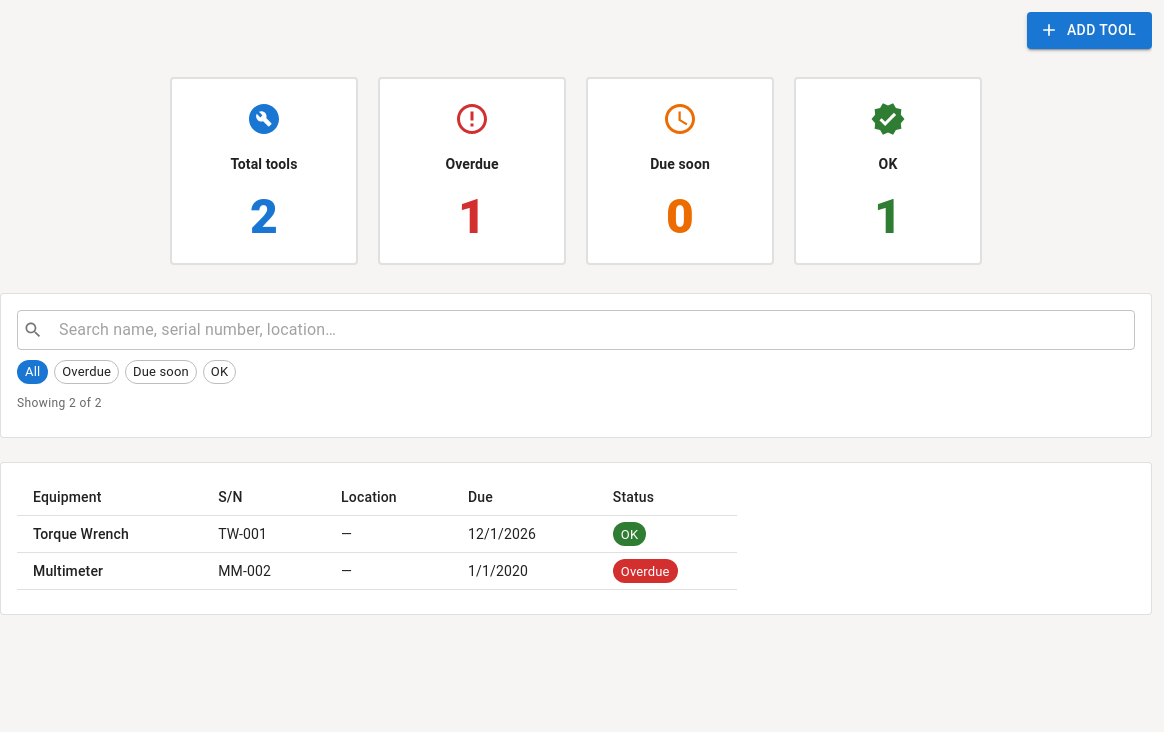
Test: ToolsCalibrationPanel › filters to overdue via stat card
Check: the text "Torque Wrench" is shown, box [33,526,129,542]
Click the heading "Overdue" at (472, 164), box [445,156,499,172]
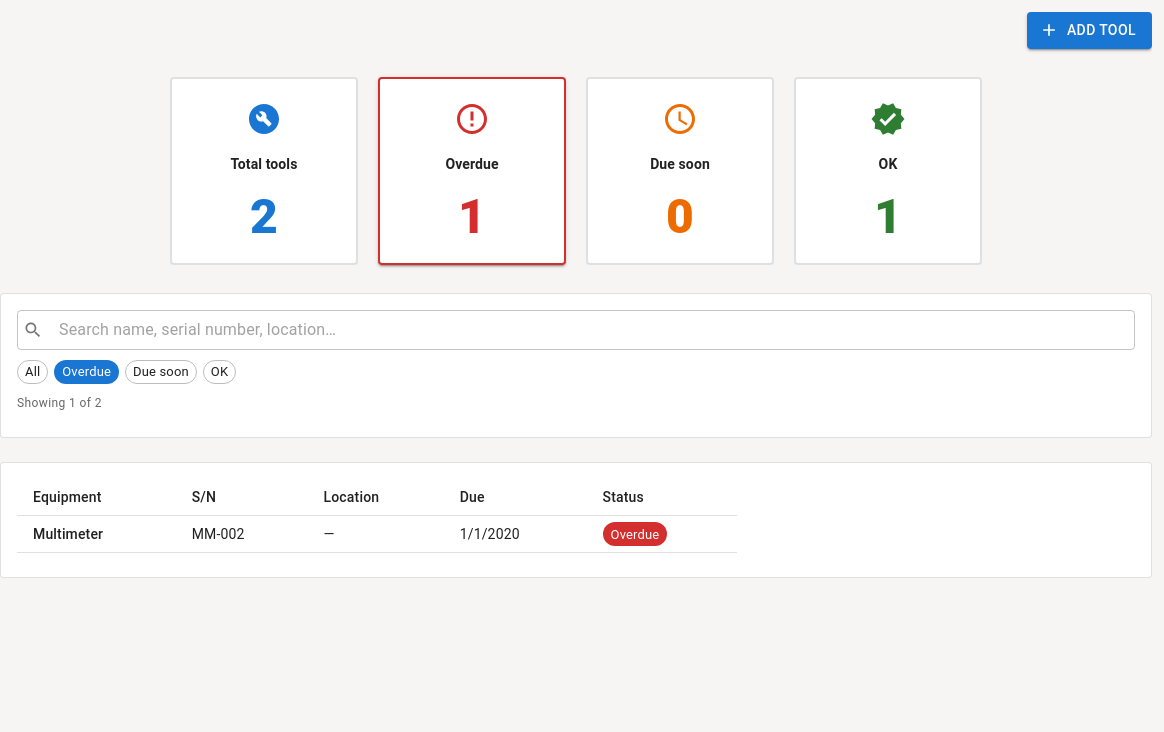
Check: the text "Multimeter" is shown, box [33,526,103,542]
Check: the text "Torque Wrench" is gone
